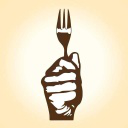fork: (48, 4, 79, 58)
